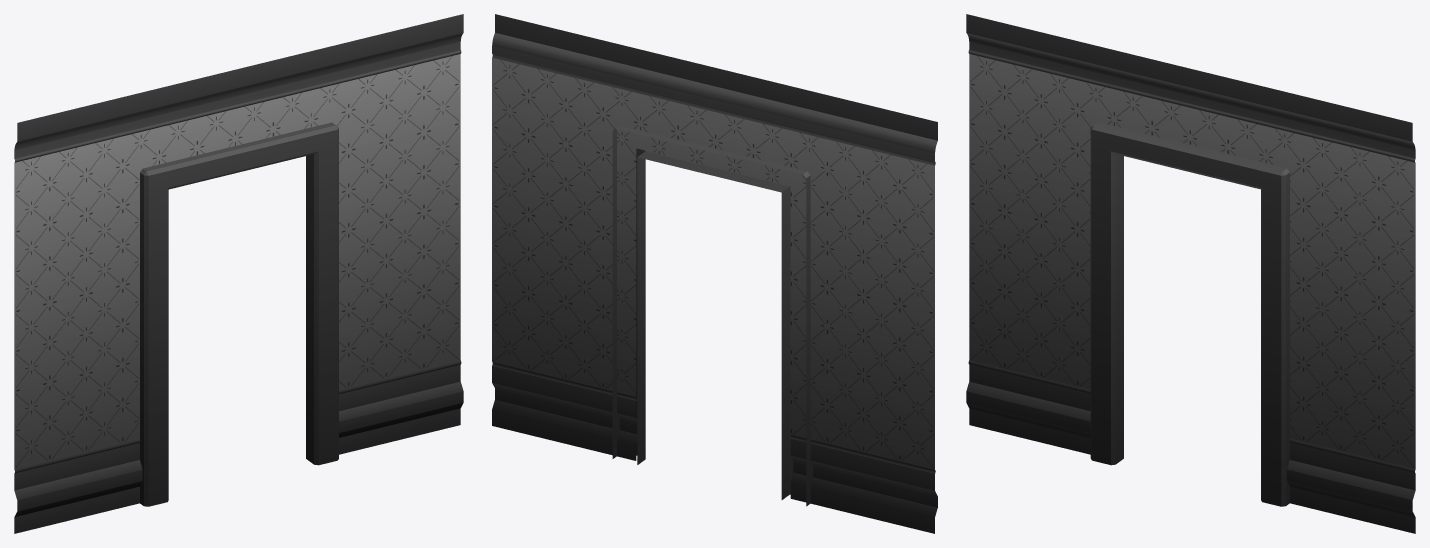
File: Wall_02_Door_Dark.fbx
3 views of the same model, side by side, from view 1: azimuth 30°, elevation 25°; view 2: azimuth 150°, elevation 25°; view 3: azimuth 330°, elevation 25° (orthographic).
Parts seen in each view (by area): view 1: Wall_02_Door_Dark; view 2: Wall_02_Door_Dark; view 3: Wall_02_Door_Dark.
Boxes of the visible parts, bbox=[...] form: Wall_02_Door_Dark: bbox=[14, 14, 463, 533]; Wall_02_Door_Dark: bbox=[492, 14, 937, 533]; Wall_02_Door_Dark: bbox=[966, 14, 1415, 533].
Bounding box in the file's own units: 3 × 2.65 × 0.1165.
